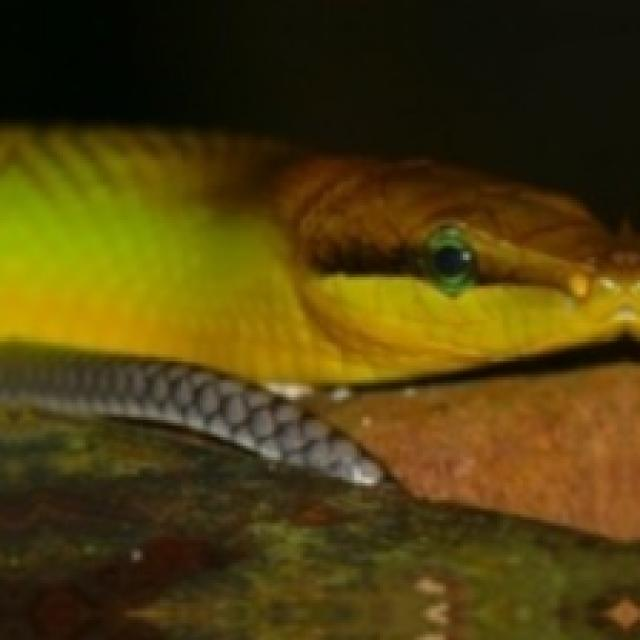red-tailed green ratsnake: (0, 128, 640, 383), (0, 129, 637, 383), (0, 359, 380, 482)
